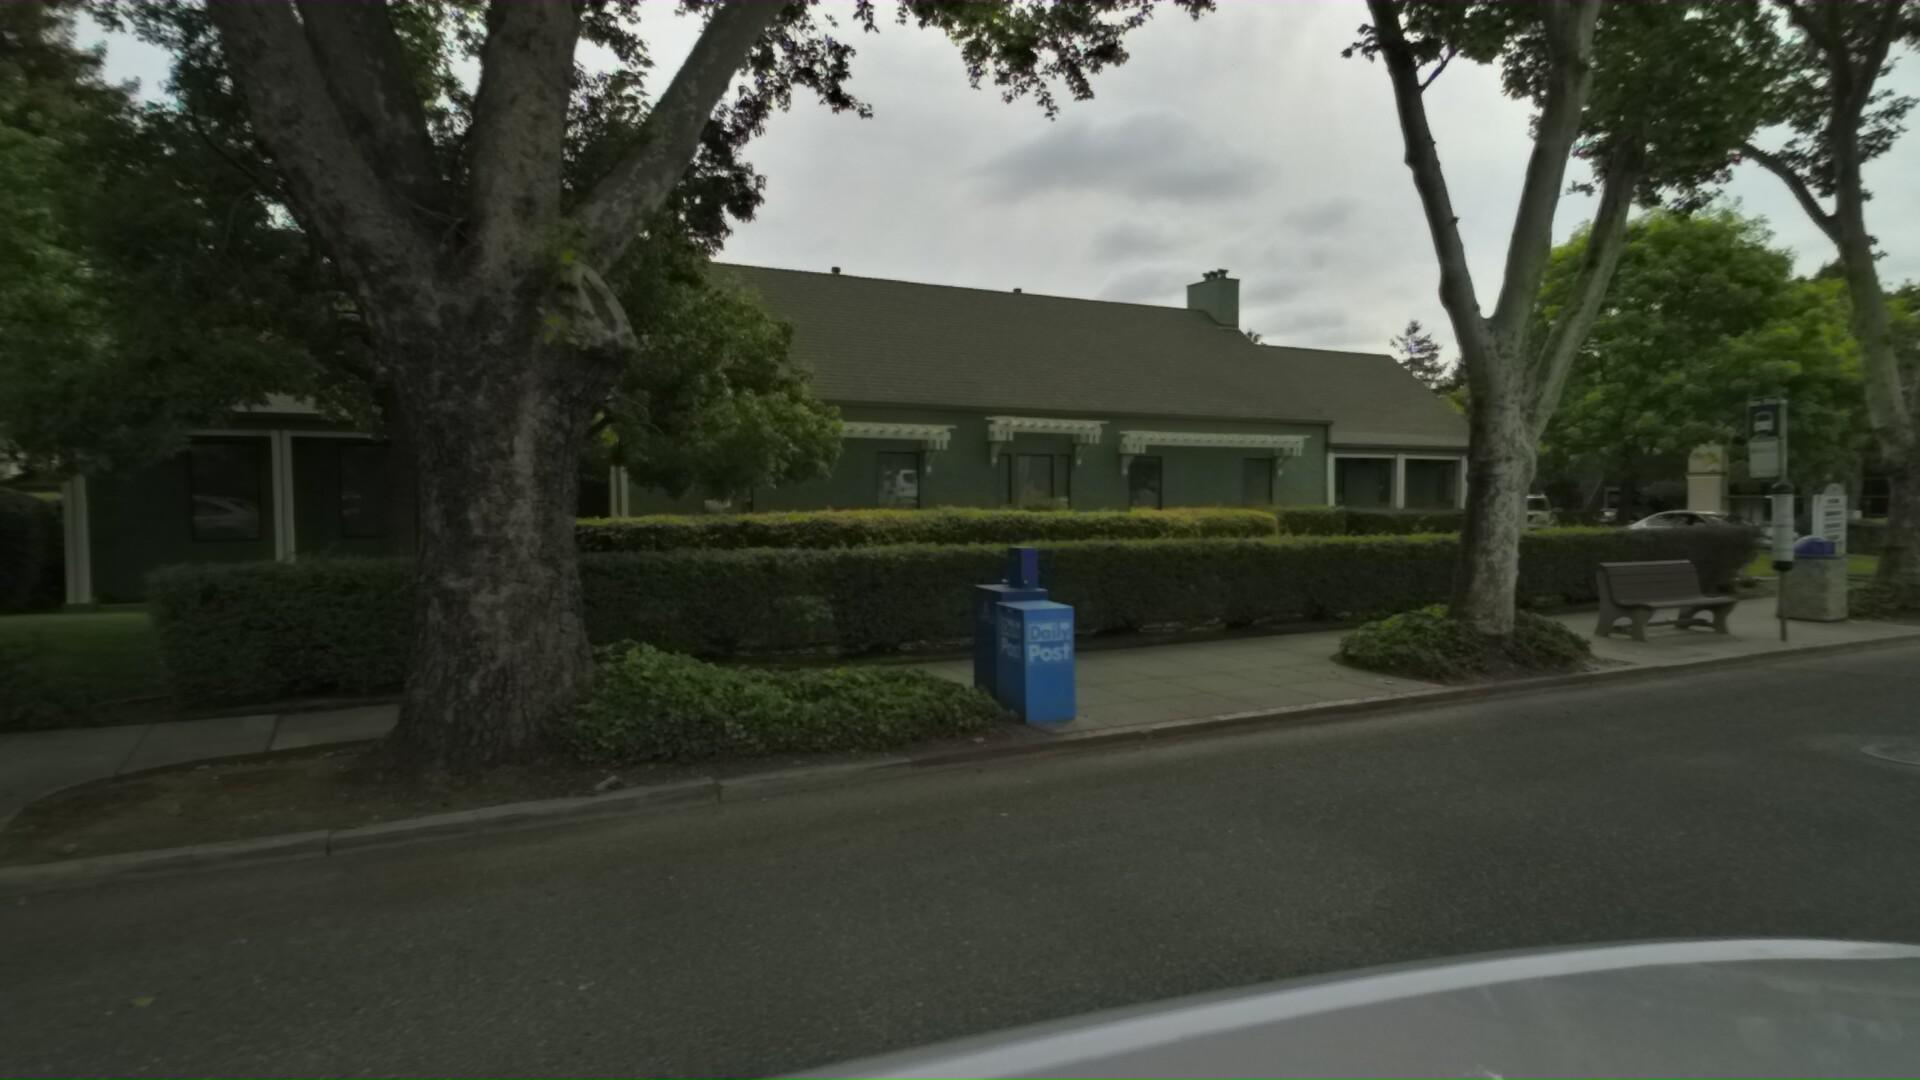car: (1613, 500, 1820, 564), (1489, 488, 1568, 546), (1586, 500, 1640, 529), (1611, 496, 1665, 524)
